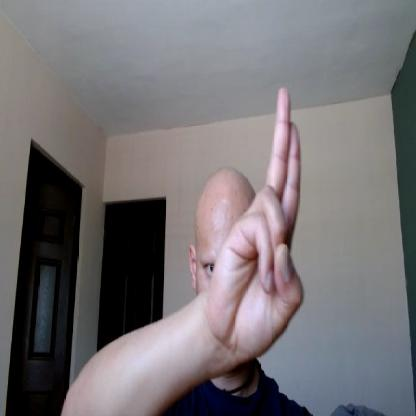U: (214, 83, 306, 355)
